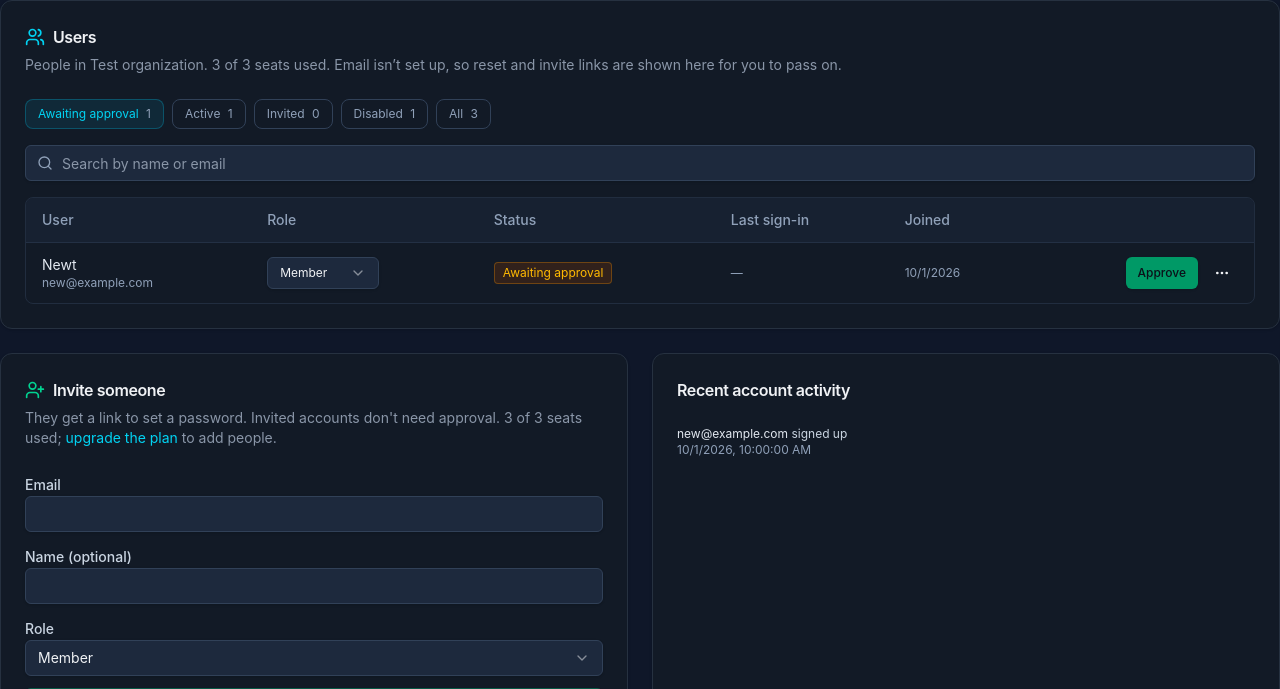
it: UserManagement › shows an organization's owner their own people and seats, without platform roles
The image size is (1280, 689).
Check: the text "People in Test organization" is shown, box [25,56,212,73]
Check: the text "3 of 3 seats used" is shown, box [212,56,330,73]
Click the button "All 3".
click(464, 114)  # box [436,99,491,129]
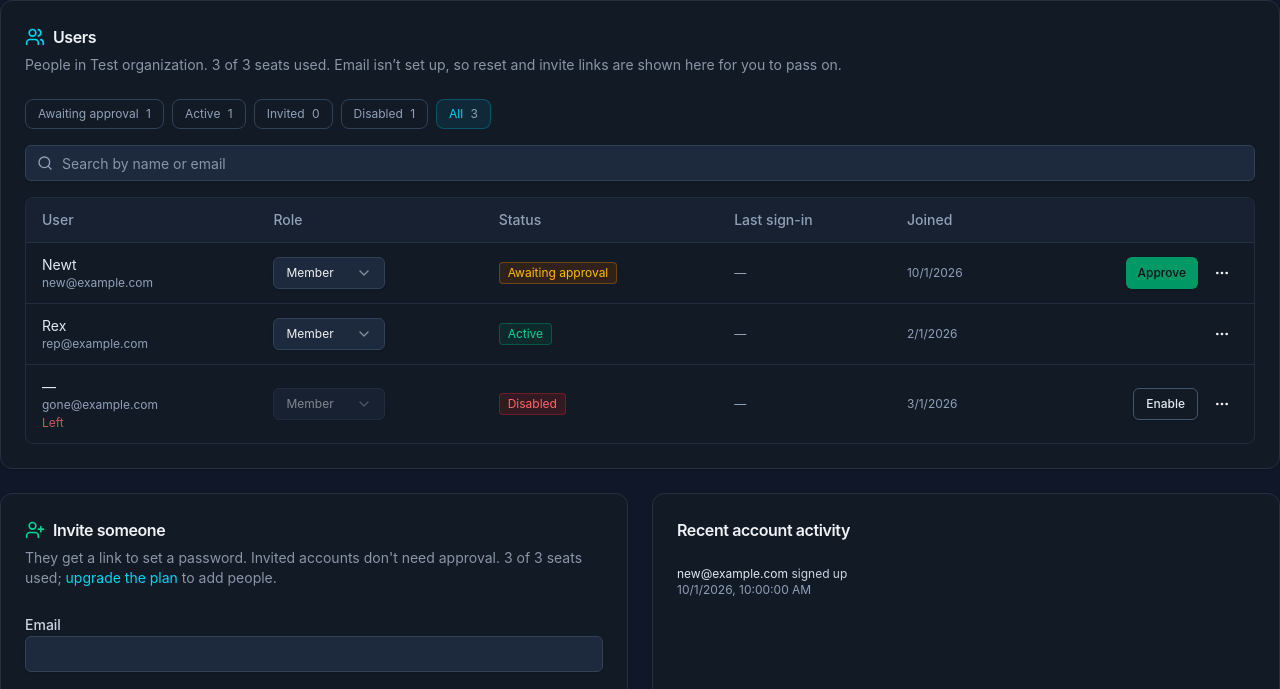
Check: the dropdown named "Organization role for rep@example.com" is enabled, box [274,318,386,350]
